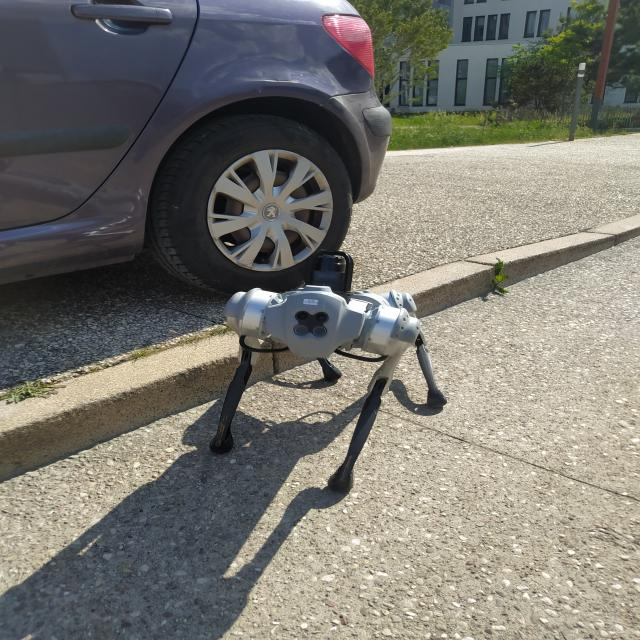unitree-go1-robot: (205, 276, 457, 506)
